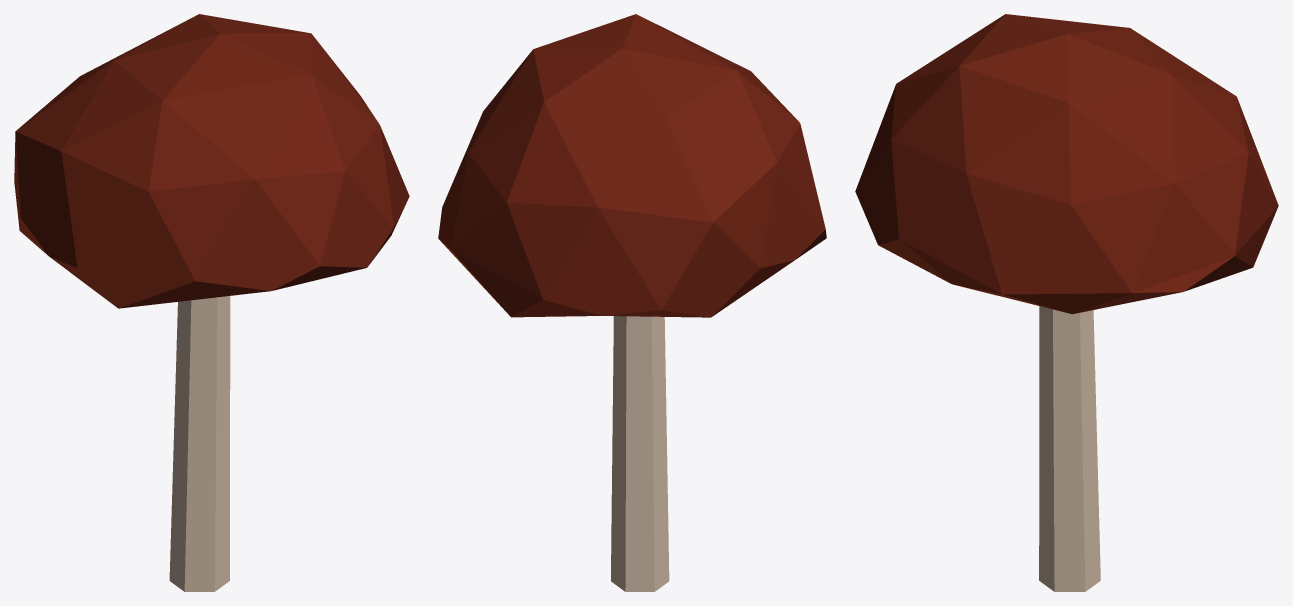
File: enchantedforest_mushroom_2.fbx
3 renders of one model, left to right at view 1: azimuth 30°, elevation 25°; view 2: azimuth 150°, elevation 25°; view 3: azimuth 270°, elevation 25°, orthographic. The views are drawn at different scales.
Parts seen in each view (by area): view 1: Icosphere.005; view 2: Icosphere.005; view 3: Icosphere.005.
Part boxes in pixels (left/top/right/bottom): Icosphere.005: left=14, top=14, right=409, bottom=591; Icosphere.005: left=438, top=14, right=826, bottom=591; Icosphere.005: left=855, top=14, right=1278, bottom=591.
Bounding box in the file's own units: 0.4129 × 0.643 × 0.4435.
